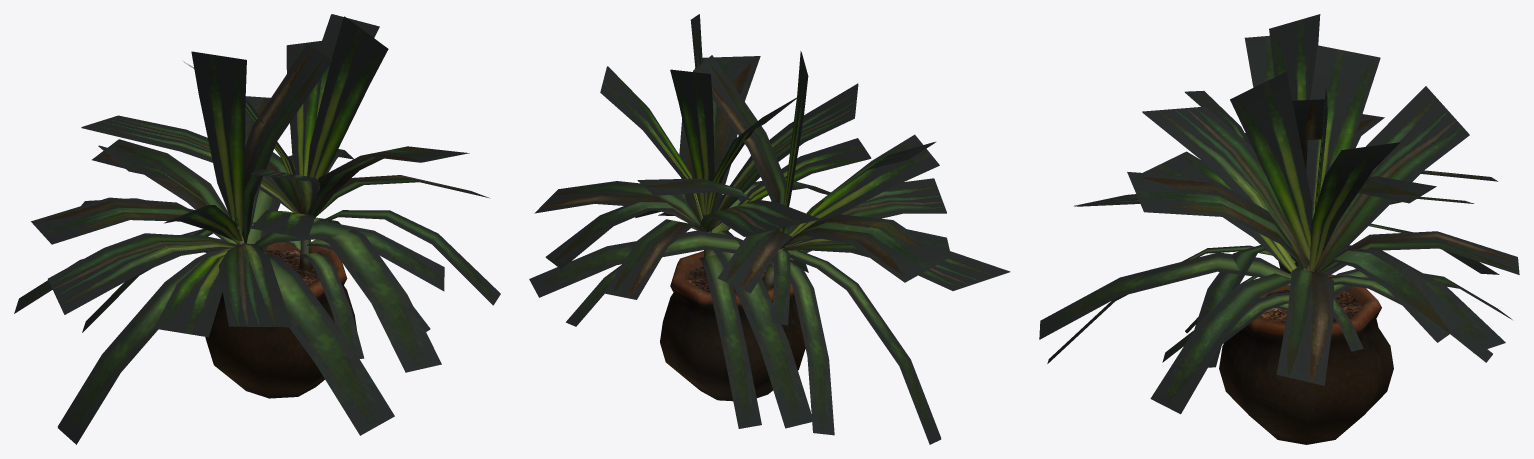
The model's file is plant_dracaena01.dae.
3 views of the same model, side by side, from view 1: azimuth 30°, elevation 25°; view 2: azimuth 150°, elevation 25°; view 3: azimuth 270°, elevation 25° (orthographic). The views are drawn at different scales.
Parts seen in each view (by area): view 1: plant_dracaena01; view 2: plant_dracaena01; view 3: plant_dracaena01.
Part boxes in pixels (x1,y1,x2,y2): plant_dracaena01: (14,14,500,444); plant_dracaena01: (529,14,1010,444); plant_dracaena01: (1039,14,1519,444).
Size of the model in its own units: 0.7203 by 0.5616 by 0.6213.
